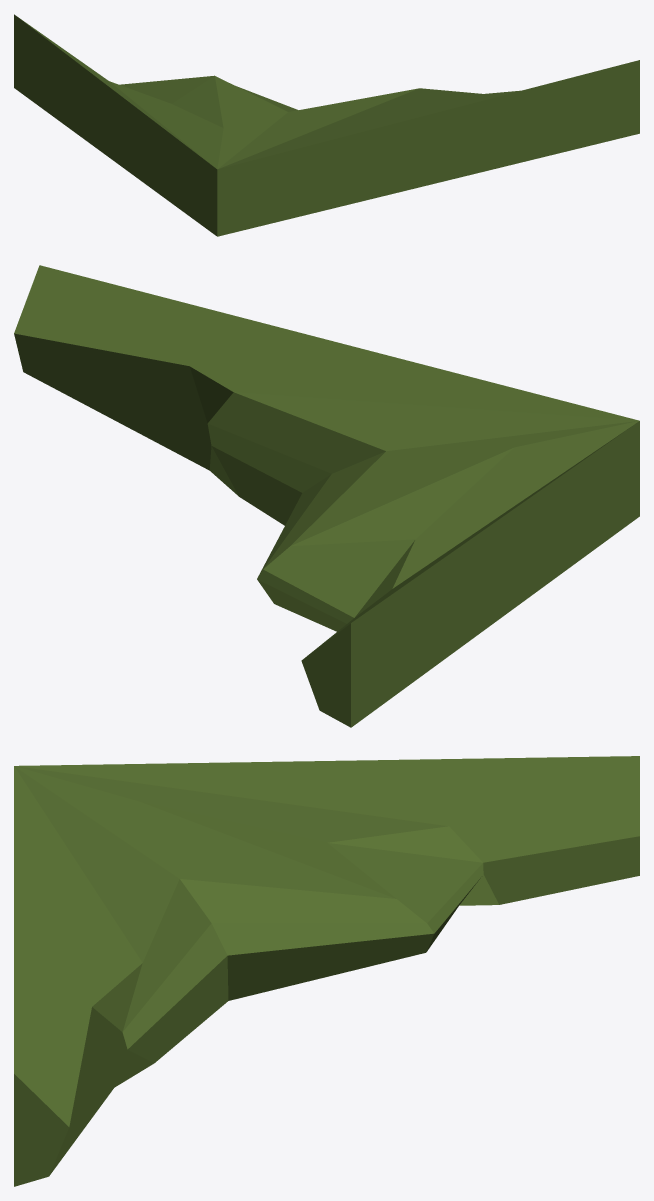
File: LightVegetationEdgeLargeInternalCurve2.fbx
3 views of the same model, one above another, from view 1: azimuth 30°, elevation 25°; view 2: azimuth 150°, elevation 25°; view 3: azimuth 270°, elevation 25° (orthographic). The views are drawn at different scales.
Parts seen in each view (by area): view 1: LightVegetationEdgeEdgeLargeInternalCurve2; view 2: LightVegetationEdgeEdgeLargeInternalCurve2; view 3: LightVegetationEdgeEdgeLargeInternalCurve2.
Part boxes in pixels (left/top/right/bottom): LightVegetationEdgeEdgeLargeInternalCurve2: left=14, top=14, right=639, bottom=236; LightVegetationEdgeEdgeLargeInternalCurve2: left=14, top=265, right=639, bottom=727; LightVegetationEdgeEdgeLargeInternalCurve2: left=14, top=756, right=639, bottom=1186.
Bounding box in the file's own units: 1200 × 229 × 1000.
